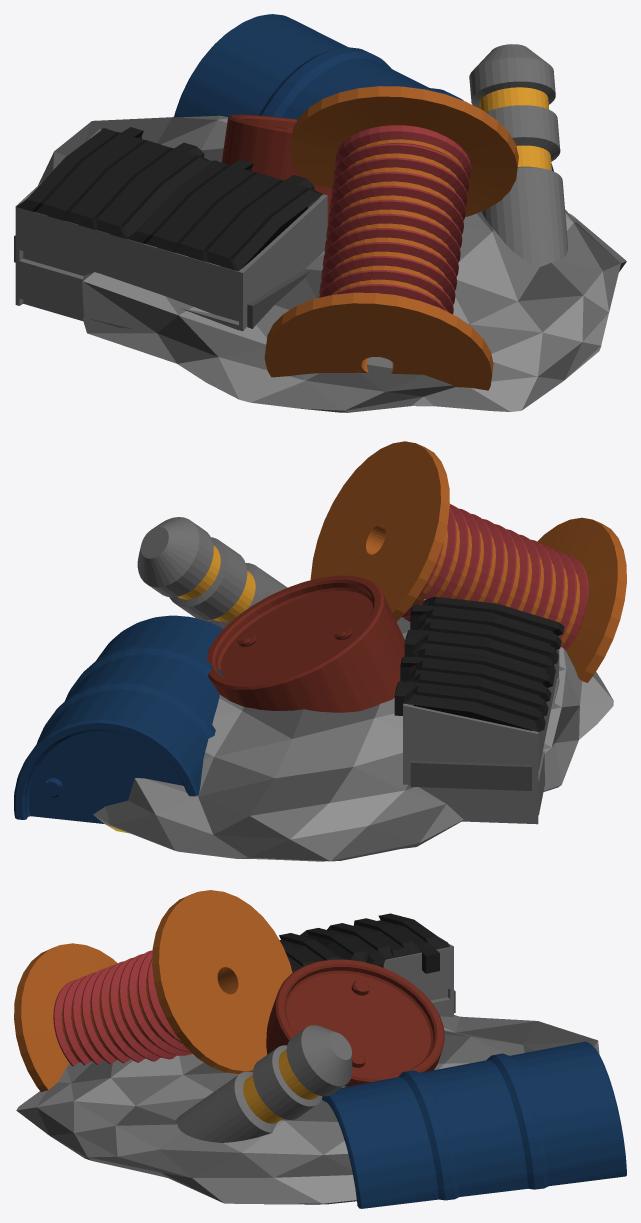
The model's file is TrashPile02.glb.
3 renders of one model, top to bottom at view 1: azimuth 30°, elevation 25°; view 2: azimuth 150°, elevation 25°; view 3: azimuth 270°, elevation 25°, orthographic. The views are drawn at different scales.
Parts seen in each view (by area): view 1: Icosphere.024; view 2: Icosphere.024; view 3: Icosphere.024.
Part boxes in pixels (x1,y1,x2,y2): Icosphere.024: (14, 14, 626, 412); Icosphere.024: (14, 441, 626, 861); Icosphere.024: (14, 890, 626, 1208).
Size of the model in its own units: 4.61 by 2.2 by 5.73.
2 materials, 1 textured.
